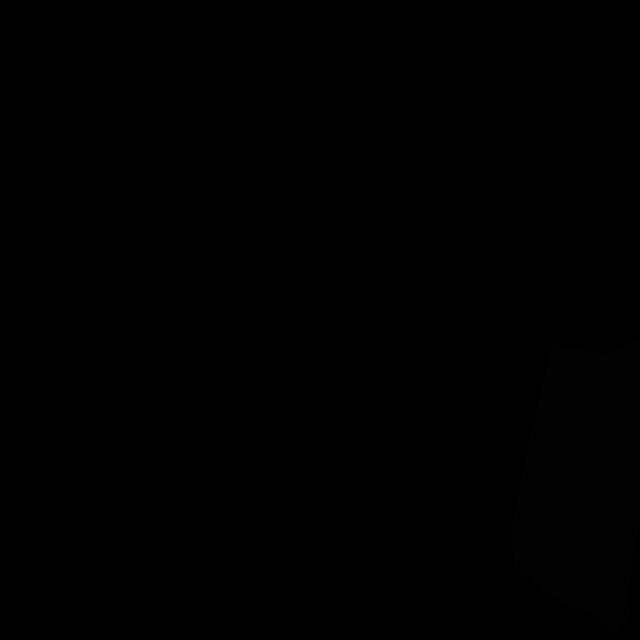cardboard: (510, 338, 640, 637)
